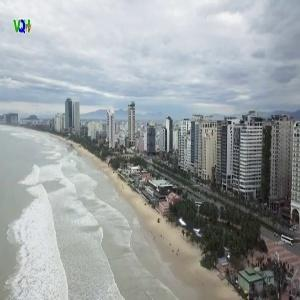drone: (137, 173, 248, 284)
